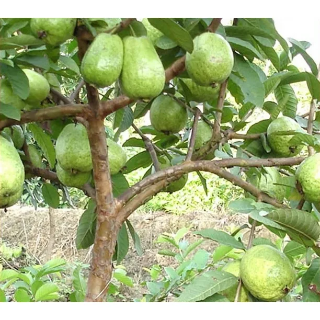oi: (233, 240, 296, 302), (78, 24, 128, 90), (119, 34, 167, 101), (183, 29, 235, 90)
